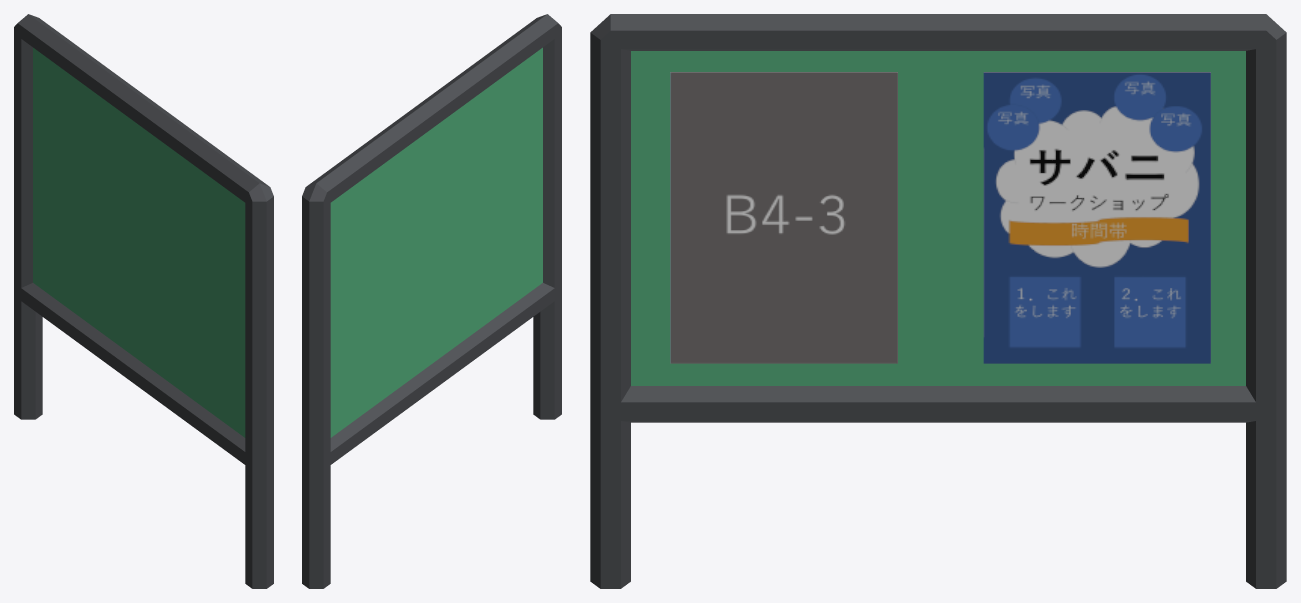
3 renders of one model, left to right at view 1: azimuth 30°, elevation 25°; view 2: azimuth 150°, elevation 25°; view 3: azimuth 270°, elevation 25°, orthographic. The views are drawn at different scales.
Parts seen in each view (by area): view 1: 平面.003, 円柱; view 2: 平面.003, 円柱; view 3: 円柱, 平面, 平面.001, 平面.002.
Boxes of the visible parts, x1,y1,x2,y2 form: 平面.003: (33,47,245,437); 円柱: (14,14,273,588); 平面.003: (330,47,542,437); 円柱: (302,14,561,588); 円柱: (590,14,1286,588); 平面: (631,51,1245,385); 平面.001: (670,72,897,363); 平面.002: (983,72,1210,363).
Size of the model in its own units: 13.5 by 240 by 267.
Materials: 2 (2 with a texture image).
